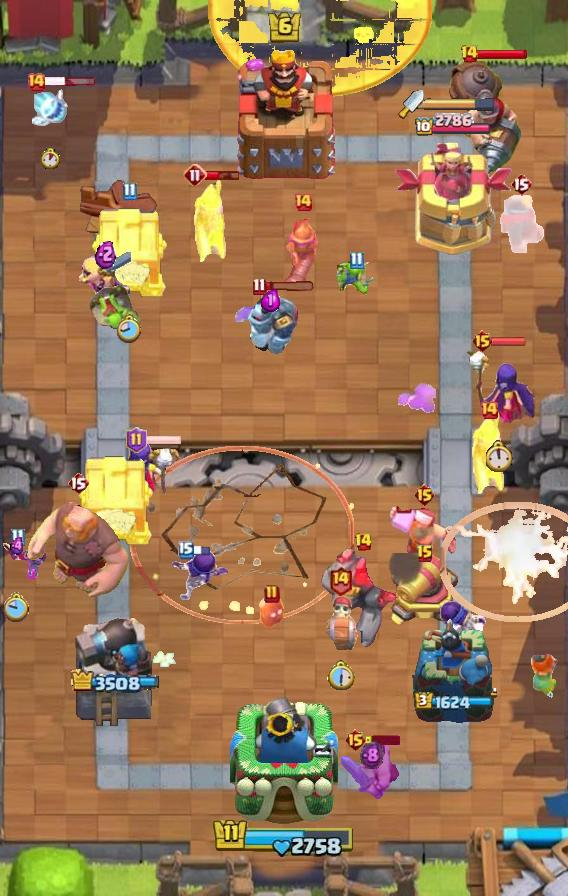arrows: (79, 252, 131, 308)
axe: (462, 346, 538, 426), (115, 440, 183, 502)
balloon: (24, 500, 132, 600)
bar: (395, 142, 514, 256)
bar-level: (87, 282, 145, 330)
barbarian-evolution: (440, 501, 568, 623)
bat: (32, 87, 68, 127)
bomb: (89, 205, 169, 299), (75, 453, 155, 547)
bomb-tower: (192, 177, 230, 275), (470, 409, 508, 507), (282, 208, 324, 296)
bomber: (258, 593, 286, 631)
cannoneer-tower: (319, 543, 407, 649)
clock: (212, 817, 356, 859)
electro-spirit: (361, 742, 384, 770), (96, 239, 117, 269), (260, 288, 280, 311), (9, 537, 27, 555)
elixir: (326, 660, 355, 691), (486, 440, 514, 472), (4, 592, 30, 622), (117, 314, 142, 344), (40, 147, 59, 168)
elixir-golem-small: (240, 285, 300, 355)
emote: (476, 48, 528, 60), (44, 77, 96, 88), (264, 280, 316, 291), (145, 434, 182, 446), (205, 169, 241, 181), (491, 336, 527, 347), (364, 735, 400, 745), (193, 544, 212, 556)
firecracker: (499, 195, 545, 253)
goblin: (0, 540, 52, 582)
goblin-ball: (171, 547, 231, 603), (437, 599, 489, 653)
goblin-giant: (338, 736, 404, 800)
guard: (130, 446, 354, 625)
hog-rider: (526, 649, 564, 701)
king-tower: (229, 43, 339, 181), (230, 692, 338, 826)
king-tower-bar: (424, 97, 496, 111)
knight: (318, 595, 362, 653)
mighty-miner: (389, 502, 459, 564)
phoenix-egg: (208, 0, 432, 96)
queen-tower: (409, 616, 497, 731)
royal-recruit: (386, 553, 464, 629)
selected: (69, 670, 159, 695), (414, 113, 492, 139), (414, 691, 494, 711)
text: (328, 564, 353, 595), (183, 163, 207, 187), (471, 329, 494, 353), (413, 483, 436, 507), (345, 728, 368, 752), (126, 427, 147, 453), (510, 172, 532, 196), (67, 471, 89, 495), (26, 72, 46, 92), (293, 192, 313, 212), (479, 400, 499, 420), (354, 532, 374, 552), (461, 44, 480, 64), (416, 544, 434, 564), (264, 584, 280, 604), (178, 541, 194, 559), (122, 183, 137, 202), (349, 251, 364, 270), (252, 276, 267, 295), (11, 528, 25, 547)
tower-bar: (71, 611, 157, 731)
wizard: (447, 59, 523, 177)
zap: (335, 259, 377, 301)
